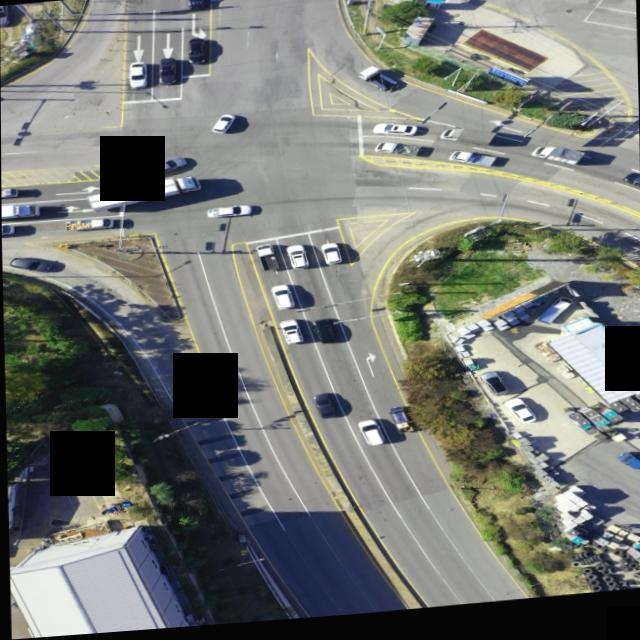car: (501, 403, 538, 434), (54, 458, 96, 484), (7, 253, 54, 273), (143, 159, 185, 179), (356, 424, 384, 453), (309, 322, 337, 349), (481, 376, 509, 402), (206, 205, 251, 221), (371, 126, 415, 142), (312, 396, 336, 423), (271, 289, 295, 315), (279, 322, 303, 348), (128, 61, 148, 88), (286, 249, 307, 274), (211, 117, 237, 137), (157, 58, 176, 85), (320, 247, 342, 270), (185, 40, 204, 65), (622, 180, 640, 196), (184, 0, 204, 12), (0, 5, 8, 25)
medium_truck: (85, 177, 197, 213), (1, 202, 39, 220)
small_truck: (531, 151, 587, 178), (440, 131, 494, 157), (356, 70, 398, 99), (532, 306, 573, 333), (448, 154, 498, 175), (63, 215, 111, 231), (373, 144, 414, 162), (614, 460, 640, 487), (255, 248, 277, 275), (388, 412, 410, 438), (1, 223, 15, 235), (1, 187, 15, 197)
